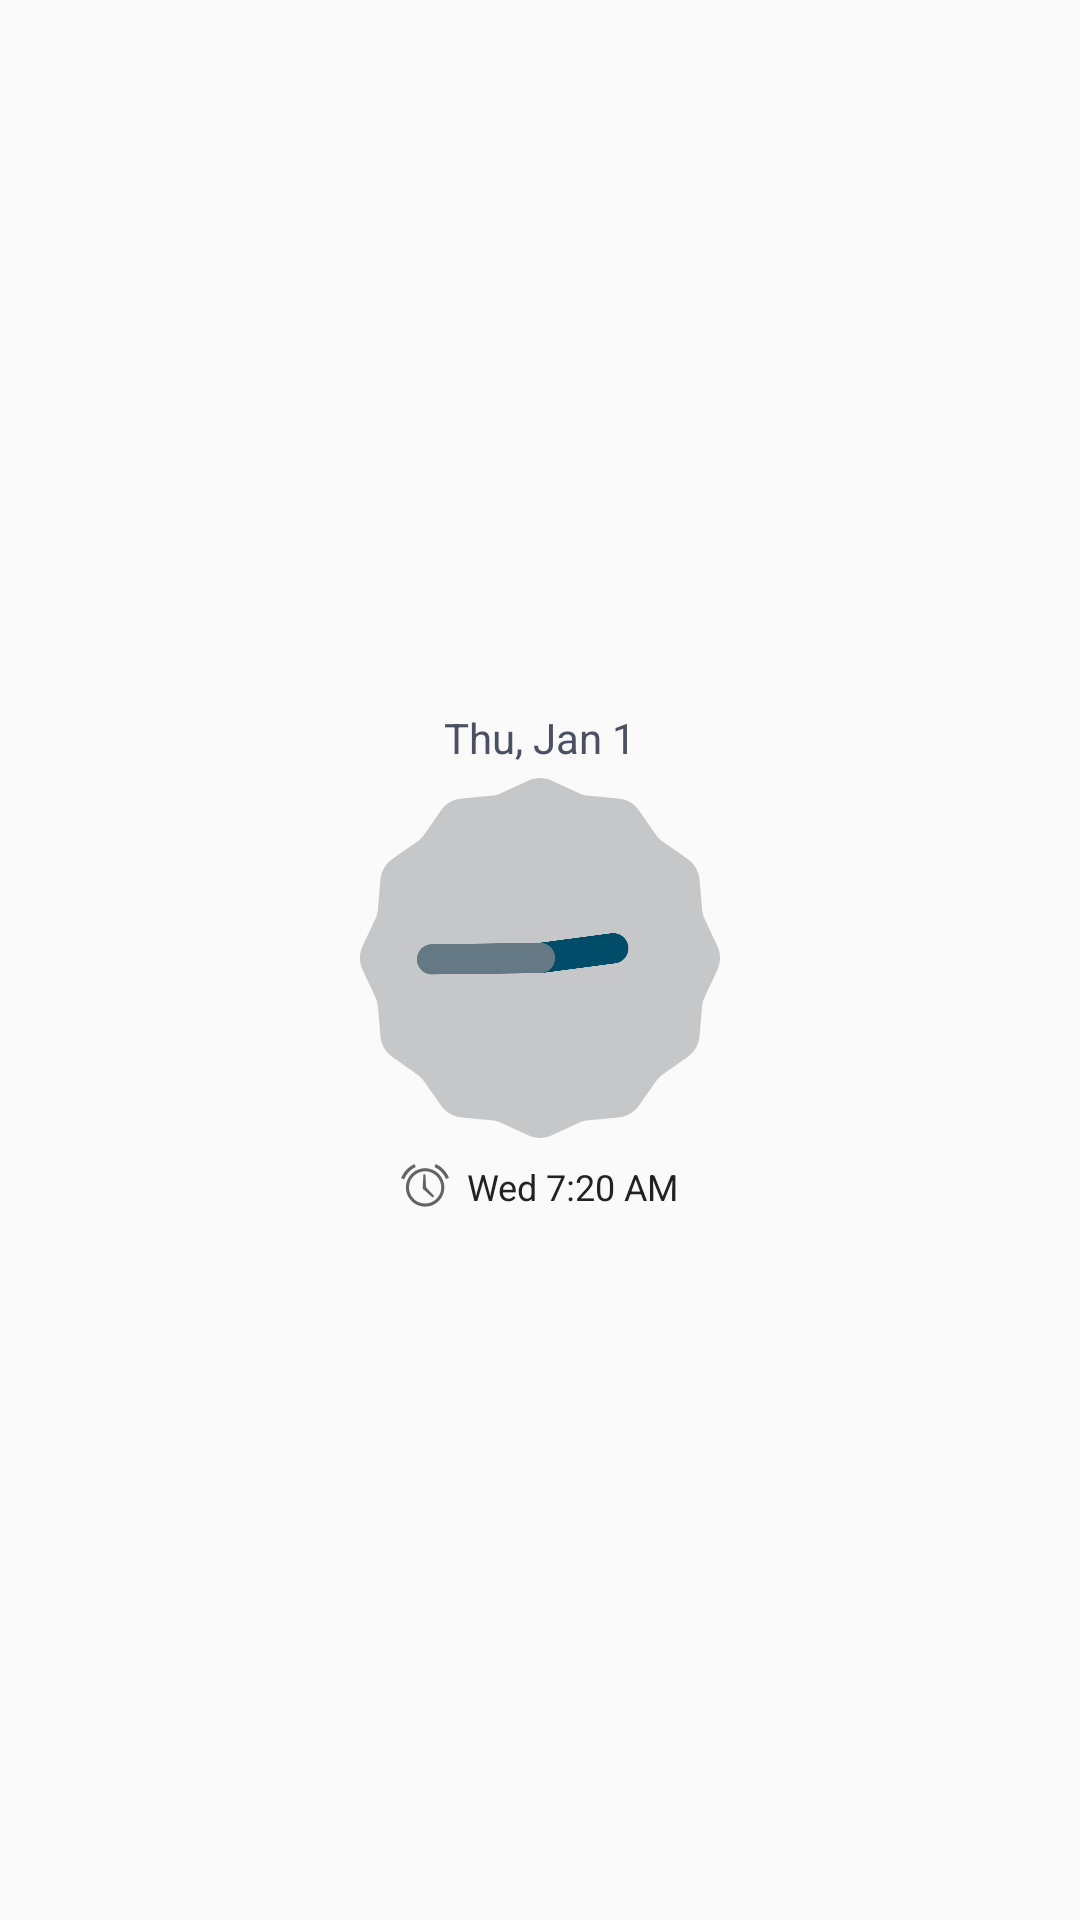

Icons on this 1080×1920 Android screen, each with the point to tap as [x,y]:
Alarm: [425,1185]
